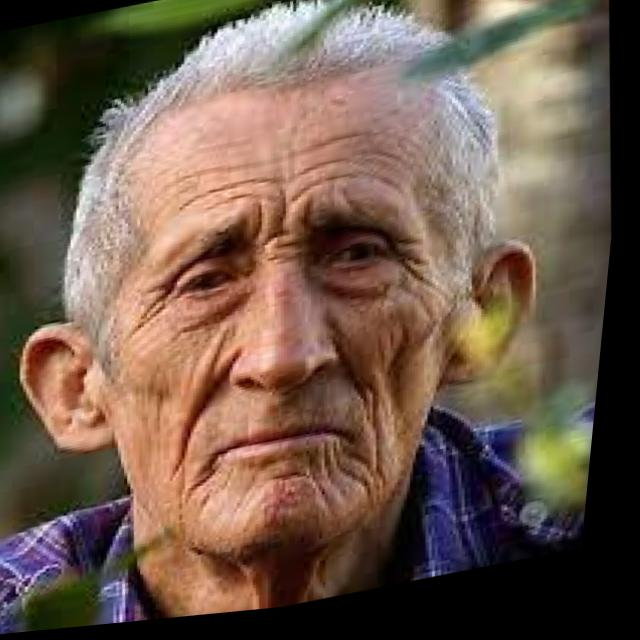Wrinkles: (305, 228, 446, 545), (173, 128, 419, 267)
